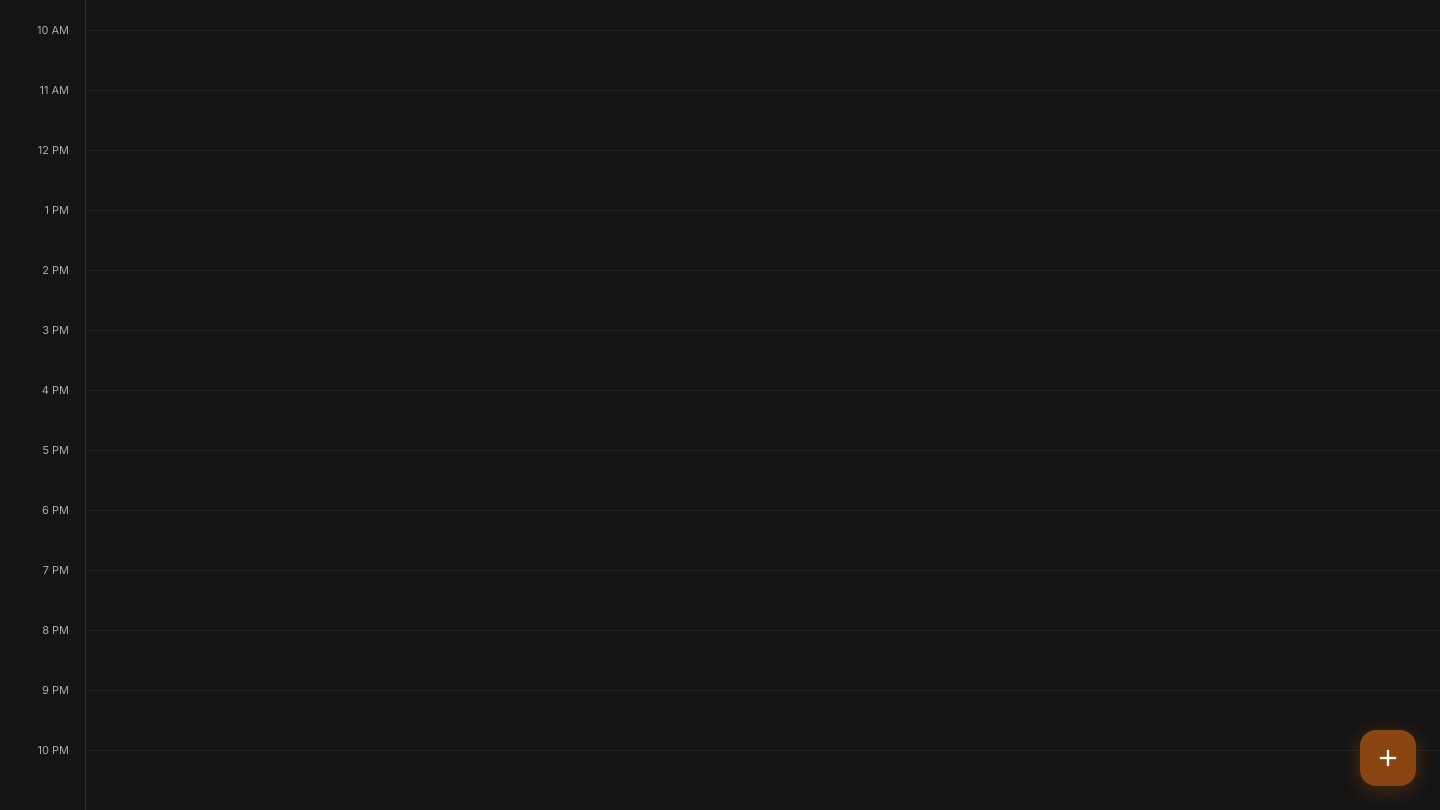
Test case: AgendaManager › expone un selector de hora con precision de minutos
The image size is (1440, 810).
(page scrolled)
What coordinates should you click on to do the following:
click the button named "Nueva cita"
I would click on:
 (1388, 758)
Its box is [1360,730,1416,786].
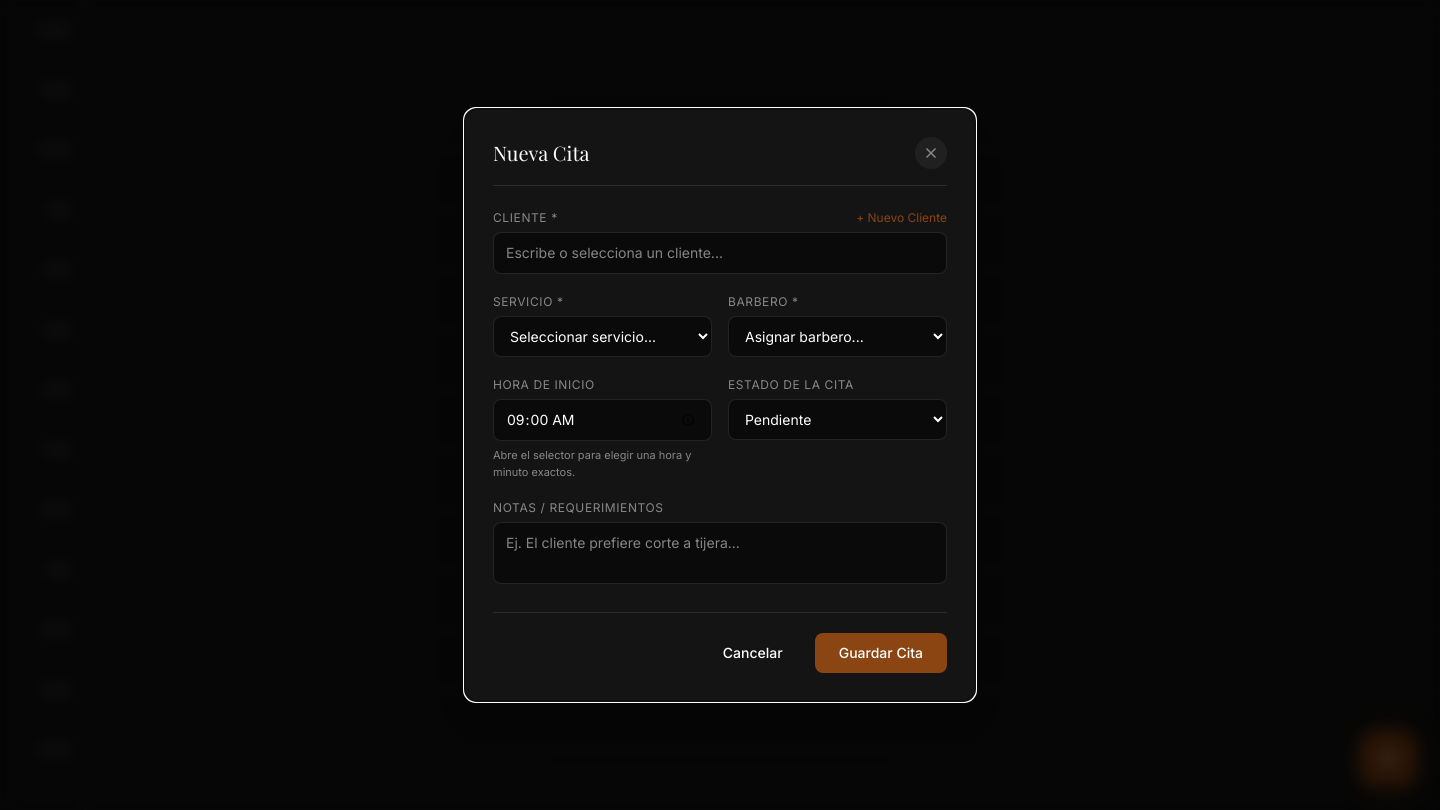
Now the time field labelled "Hora de Inicio" holds "09:00", box [493,399,712,441]
